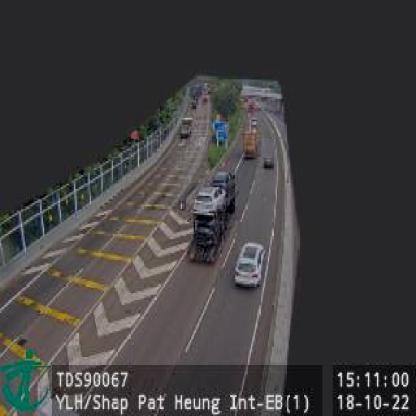Car: (233, 239, 266, 289), (178, 116, 194, 140), (262, 155, 274, 171)
Truck: (189, 171, 239, 264), (242, 127, 260, 159)
